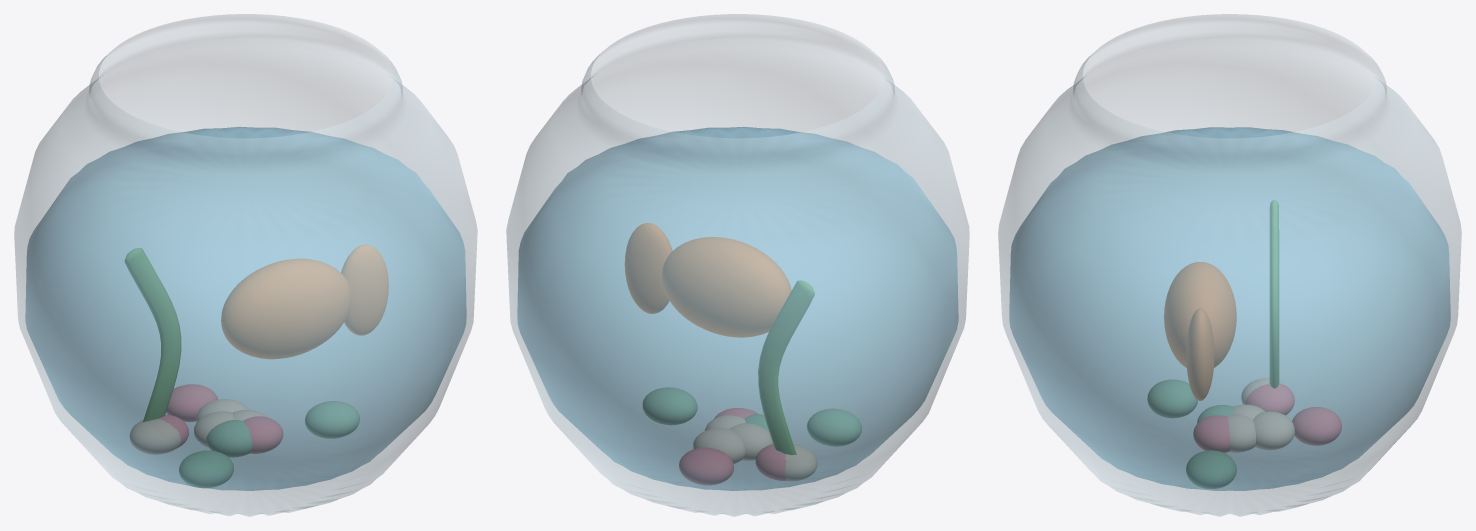
Rendered from deco_pecera.glb.
3 views of the same model, side by side, from view 1: azimuth 30°, elevation 25°; view 2: azimuth 150°, elevation 25°; view 3: azimuth 270°, elevation 25° (orthographic).
Parts seen in each view (by area): view 1: pecera.001, agua.001, pez.001, alga.001, cola pez.001, piedrita 8.001, piedrita 2.001, piedrita 6.001, piedrita 5.001, piedrita 4.001, piedrita 1.001, piedrita 9.001 (+1 smaller); view 2: pecera.001, agua.001, pez.001, alga.001, cola pez.001, piedrita 2.001, piedrita 4.001, piedrita 8.001, piedrita 0.001, piedrita 9.001, piedrita 6.001, piedrita 7.001; view 3: pecera.001, agua.001, pez.001, cola pez.001, alga.001, piedrita 8.001, piedrita 4.001, piedrita 2.001, piedrita 0.001, piedrita 1.001, piedrita 7.001, piedrita 3.001.
Part boxes in pixels (left/top/right/bottom): pecera.001: left=14, top=14, right=477, bottom=516; agua.001: left=25, top=126, right=466, bottom=490; pez.001: left=221, top=259, right=351, bottom=358; alga.001: left=125, top=248, right=180, bottom=421; cola pez.001: left=341, top=245, right=388, bottom=335; piedrita 8.001: left=305, top=401, right=359, bottom=438; piedrita 2.001: left=179, top=451, right=233, bottom=488; piedrita 6.001: left=130, top=419, right=180, bottom=454; piedrita 5.001: left=206, top=420, right=251, bottom=457; piedrita 4.001: left=166, top=384, right=217, bottom=421; piedrita 1.001: left=243, top=416, right=282, bottom=453; piedrita 9.001: left=194, top=411, right=233, bottom=446; pecera.001: left=506, top=14, right=969, bottom=516; agua.001: left=517, top=126, right=958, bottom=490; pez.001: left=662, top=237, right=791, bottom=337; alga.001: left=758, top=280, right=814, bottom=454; cola pez.001: left=625, top=223, right=672, bottom=313; piedrita 2.001: left=807, top=409, right=861, bottom=446; piedrita 4.001: left=679, top=448, right=733, bottom=484; piedrita 8.001: left=643, top=387, right=697, bottom=424; piedrita 0.001: left=693, top=428, right=745, bottom=463; piedrita 9.001: left=729, top=423, right=772, bottom=460; piedrita 6.001: left=785, top=444, right=817, bottom=480; piedrita 7.001: left=756, top=444, right=786, bottom=480; pecera.001: left=998, top=14, right=1461, bottom=516; agua.001: left=1009, top=127, right=1450, bottom=490; pez.001: left=1164, top=262, right=1236, bottom=367; cola pez.001: left=1186, top=308, right=1214, bottom=400; alga.001: left=1270, top=200, right=1278, bottom=388; piedrita 8.001: left=1186, top=450, right=1236, bottom=488; piedrita 4.001: left=1292, top=407, right=1341, bottom=445; piedrita 2.001: left=1147, top=379, right=1197, bottom=417; piedrita 0.001: left=1253, top=411, right=1294, bottom=449; piedrita 1.001: left=1193, top=415, right=1229, bottom=452; piedrita 7.001: left=1245, top=383, right=1294, bottom=414; piedrita 3.001: left=1227, top=414, right=1255, bottom=452.
Size of the model in its own units: 0.313 by 0.3 by 0.313.
